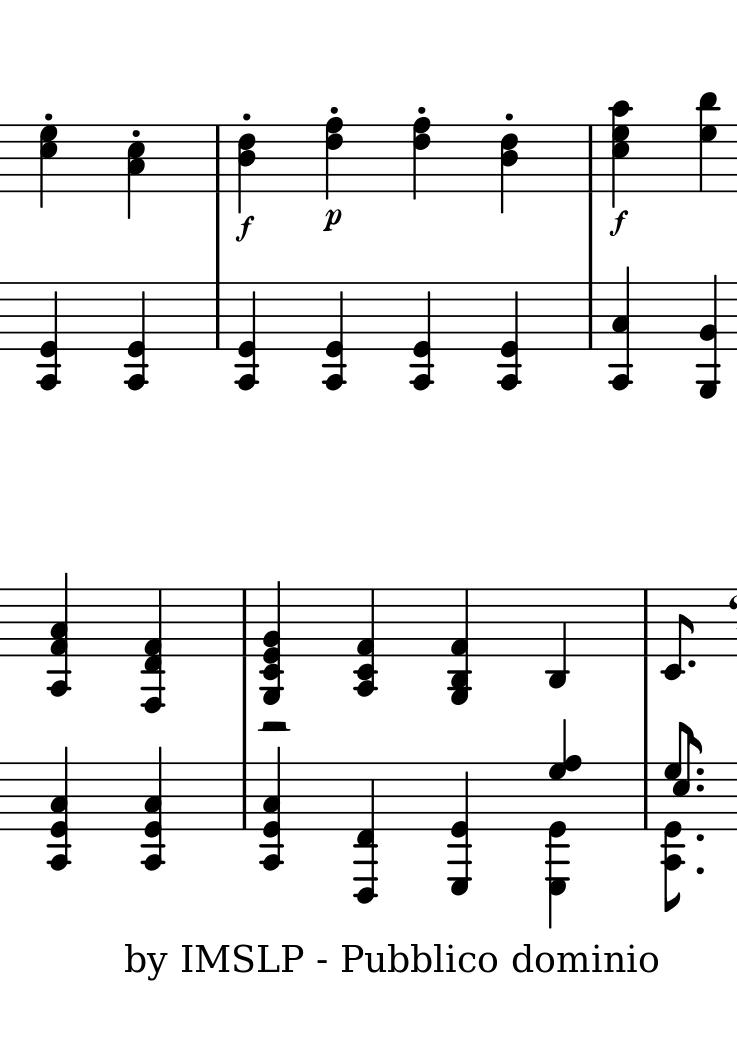4_-4_0: (496, 281, 524, 391), (407, 281, 435, 391), (319, 280, 347, 390), (232, 280, 260, 390), (121, 280, 149, 390), (34, 281, 62, 391)
4_-4_3: (610, 265, 635, 391)
4_-5_2: (696, 273, 722, 400)
4_3_5: (127, 124, 146, 220)
4_4_6: (237, 124, 256, 216), (499, 123, 518, 215)
4_5_7: (39, 124, 60, 211)
4_6_8: (324, 116, 343, 201), (411, 115, 430, 200)
4_7_11: (696, 91, 719, 194)
4_th: (259, 745, 287, 872), (48, 744, 75, 872), (349, 590, 379, 700), (46, 573, 72, 699), (446, 587, 473, 706), (141, 746, 166, 874), (140, 585, 164, 718)
8_-2: (657, 586, 695, 682)
Single_barline: (209, 283, 227, 350), (236, 763, 254, 829), (582, 282, 599, 350), (582, 125, 599, 192), (209, 126, 226, 192), (637, 590, 654, 656), (637, 763, 654, 829), (236, 591, 253, 655)
dot: (693, 765, 706, 779), (685, 656, 697, 670), (695, 864, 707, 878), (695, 830, 706, 845), (694, 782, 705, 794)
f: (234, 215, 257, 243), (608, 209, 630, 237)
p: (322, 206, 343, 234)
